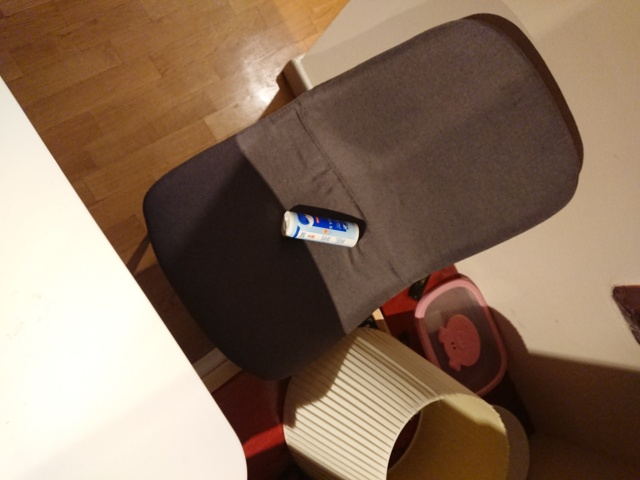Solana Pag Fine Sea Salt 250g: (279, 206, 364, 249)
